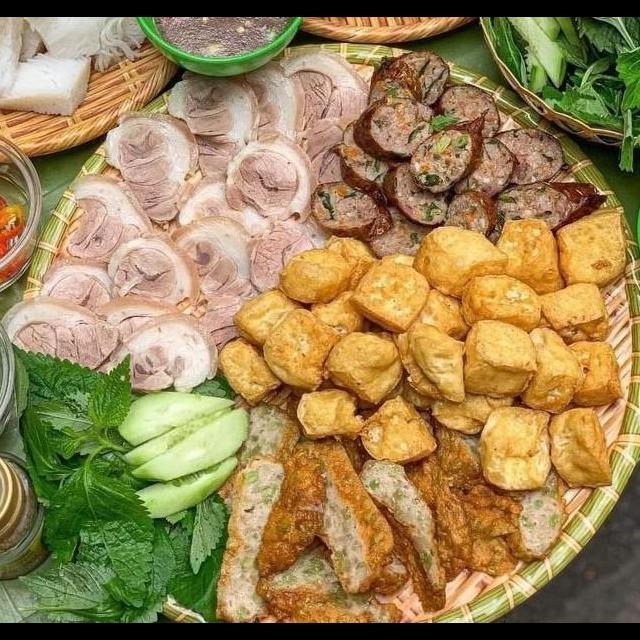bun: (0, 18, 149, 119)
bun dau: (14, 49, 640, 623)
cha com: (200, 395, 570, 623)
dau hu: (211, 206, 638, 494)
doi sun: (300, 44, 616, 267)
thit heo: (220, 128, 338, 301), (274, 42, 378, 197), (94, 107, 200, 228), (86, 308, 222, 400), (162, 63, 264, 184), (0, 291, 122, 374), (210, 61, 310, 161), (58, 170, 158, 269), (82, 295, 196, 381), (104, 231, 205, 314), (32, 253, 124, 325)
